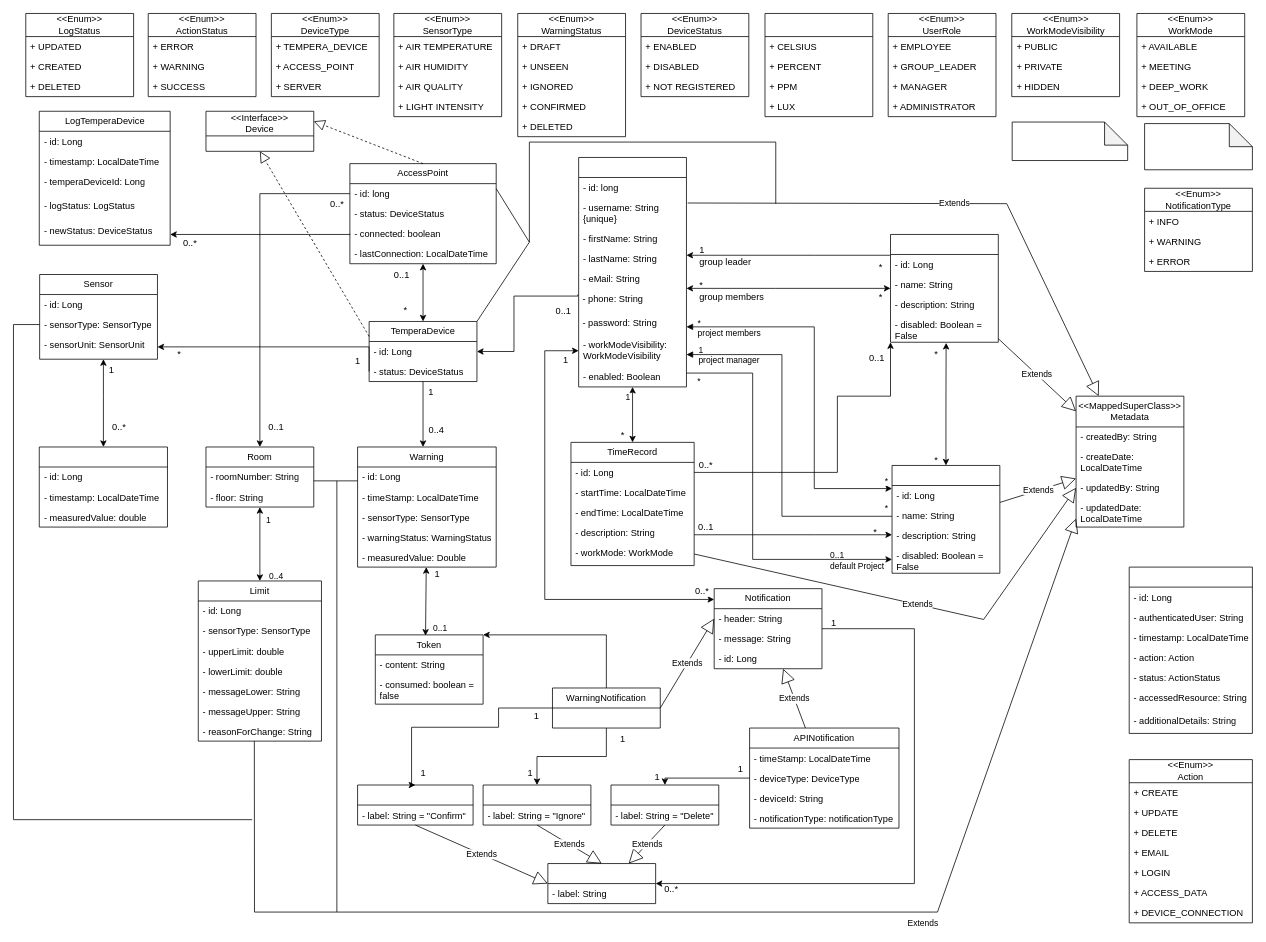
The diagram is 1266 pixels wide and 942 high, and some of its shapes have lost their labels. The box of each missing label's shape, as (x1, y1, x2, y2) in pixels:
<<Enum>> SensorUnit: (764, 13, 873, 117)
Administrator cannot change visibility of status: (1011, 121, 1128, 161)
AuditLog: (1128, 566, 1252, 733)
ClimateMeasurement: (38, 446, 167, 527)
NotificationButton: (547, 863, 656, 904)
NotificationConfirmButton: (357, 784, 473, 825)
NotificationDeleteButton: (610, 784, 719, 825)
NotificationIgnoreButton: (482, 784, 591, 825)
Out of office cannot be assigned to specific project: (1144, 123, 1252, 170)
Project: (891, 465, 1000, 573)
Userx: (578, 157, 686, 387)
WorkGroup: (890, 234, 998, 342)
